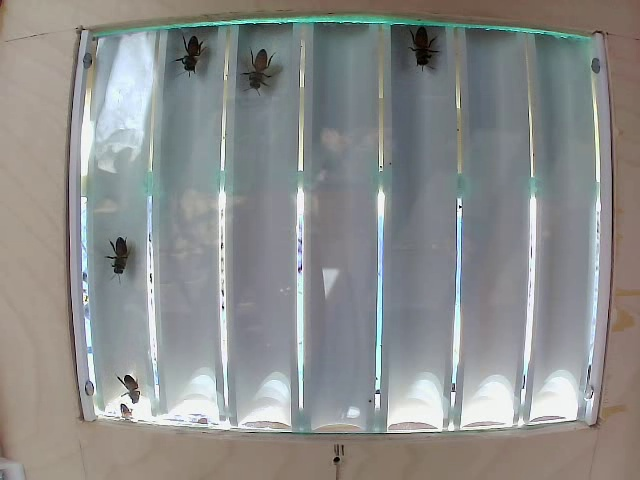bee: (408, 19, 457, 84), (93, 243, 149, 286), (240, 52, 286, 103), (181, 29, 208, 75)
